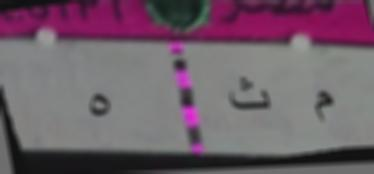5: (76, 78, 123, 132)
meem: (304, 84, 342, 132)
thaa: (218, 72, 277, 119)
